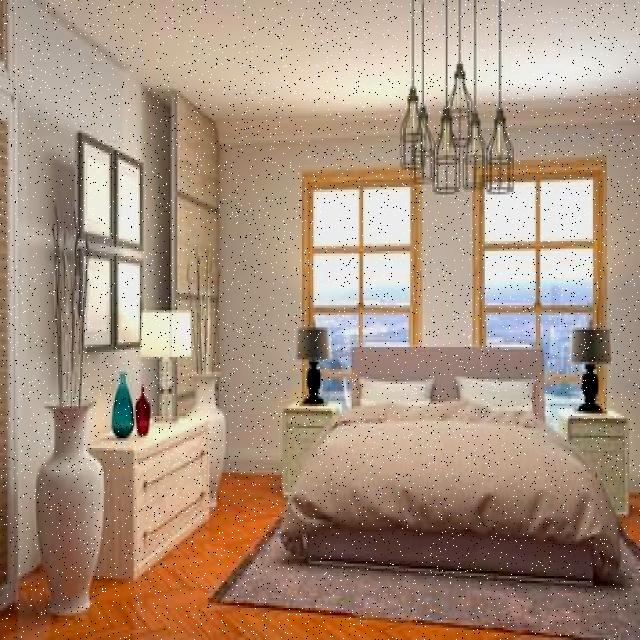bed: (304, 338, 594, 574)
